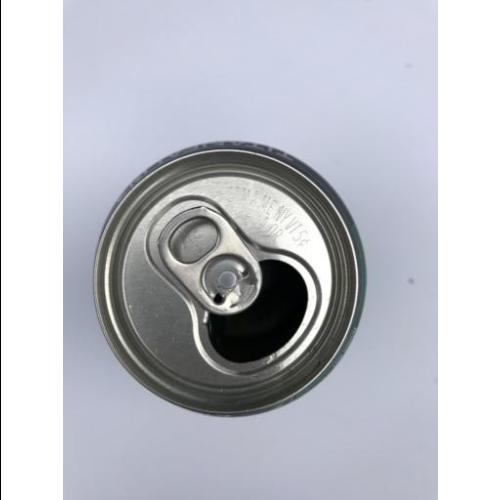metal: (92, 139, 368, 417)
